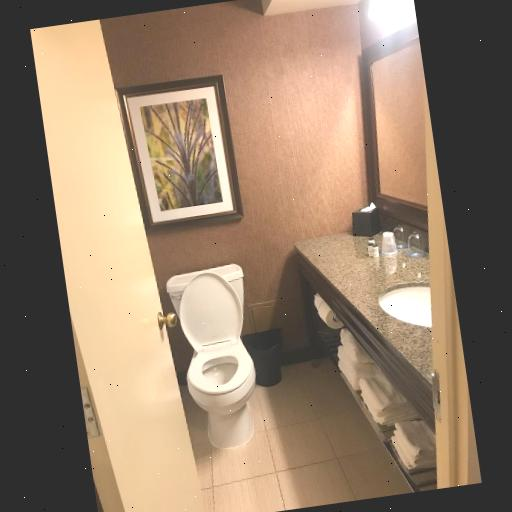clean_floor: (180, 351, 412, 512)
clean_sink: (291, 215, 433, 422)
clean_toilet: (164, 262, 274, 453)
folded_towel: (336, 330, 440, 470)
